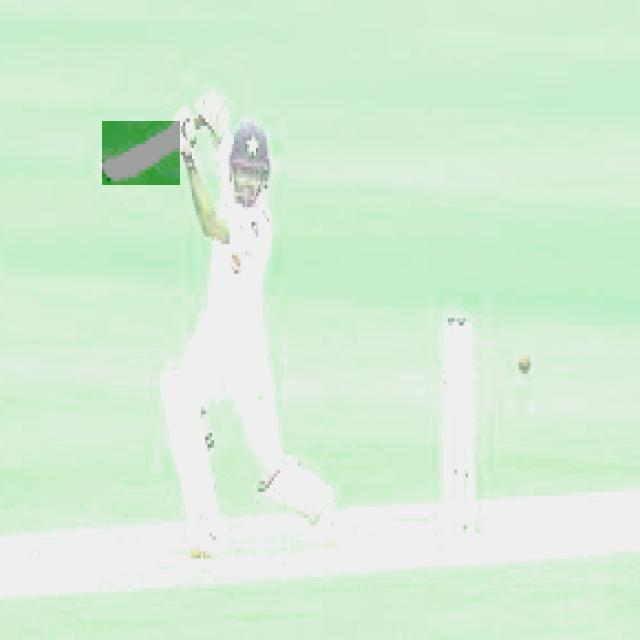bat: (103, 121, 180, 182)
toe: (100, 161, 117, 184)
